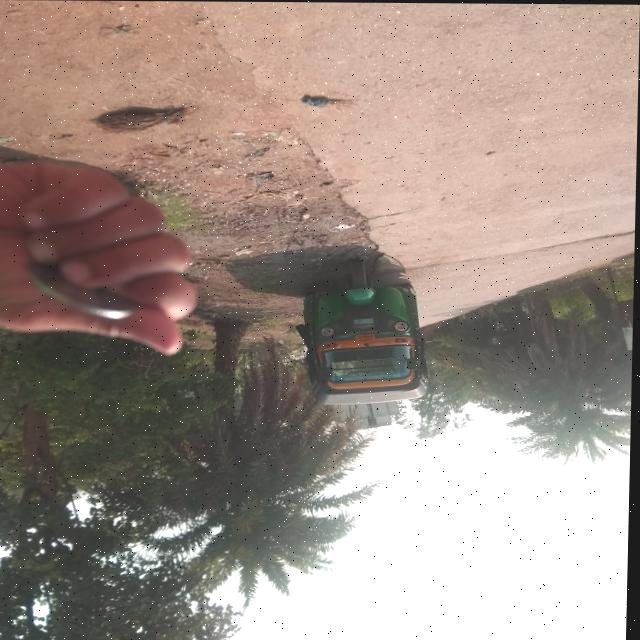plate: (356, 332, 377, 343)
